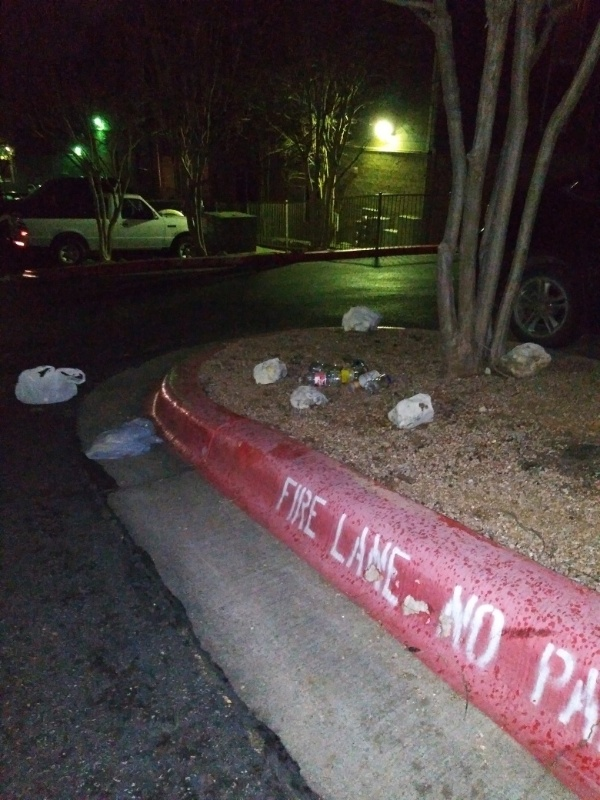bottle: (345, 367, 387, 394), (364, 371, 399, 397), (330, 364, 362, 385), (299, 371, 333, 387), (303, 361, 339, 375)
